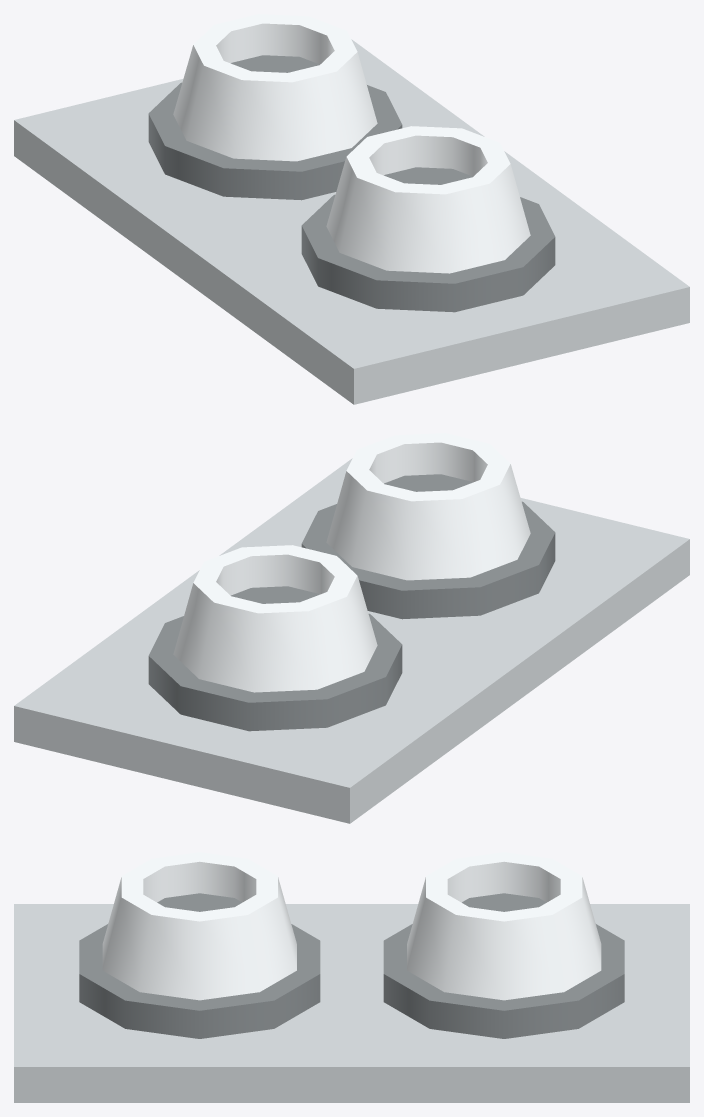
The model's file is Rooftop_Ventilation_03.glb.
The picture shows the model from 3 angles, top to bottom: view 1: azimuth 30°, elevation 25°; view 2: azimuth 150°, elevation 25°; view 3: azimuth 270°, elevation 25°; orthographic projection.
Parts seen in each view (by area): view 1: Rooftop_Ventilation_03; view 2: Rooftop_Ventilation_03; view 3: Rooftop_Ventilation_03.
Boxes of the visible parts, bbox=[...] form: Rooftop_Ventilation_03: bbox=[14, 14, 689, 404]; Rooftop_Ventilation_03: bbox=[14, 433, 689, 823]; Rooftop_Ventilation_03: bbox=[14, 852, 689, 1102].
Size of the model in its own units: 1.54 by 0.5915 by 2.7.
1 material, 1 textured.
